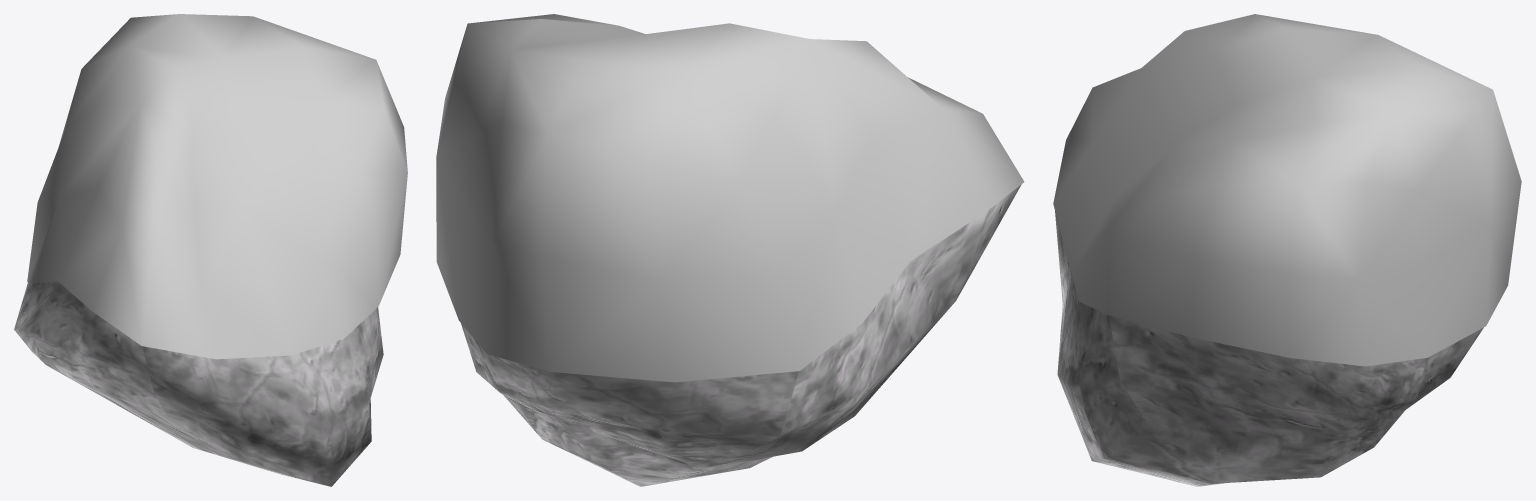
Rendered from INST_TROLLHOLE_ROCKGLOWA.obj.
The picture shows the model from 3 angles, left to right: view 1: azimuth 30°, elevation 25°; view 2: azimuth 150°, elevation 25°; view 3: azimuth 270°, elevation 25°; orthographic projection. The views are drawn at different scales.
Visible parts, largest first — view 1: ckGlowA_Lod1_01; view 2: ckGlowA_Lod1_01; view 3: ckGlowA_Lod1_01.
Part boxes in pixels (x1=…): ckGlowA_Lod1_01: x1=14, y1=14, x2=407, y2=486; ckGlowA_Lod1_01: x1=436, y1=14, x2=1024, y2=486; ckGlowA_Lod1_01: x1=1053, y1=14, x2=1521, y2=486.
Bounding box in the file's own units: 211 × 211 × 211.
